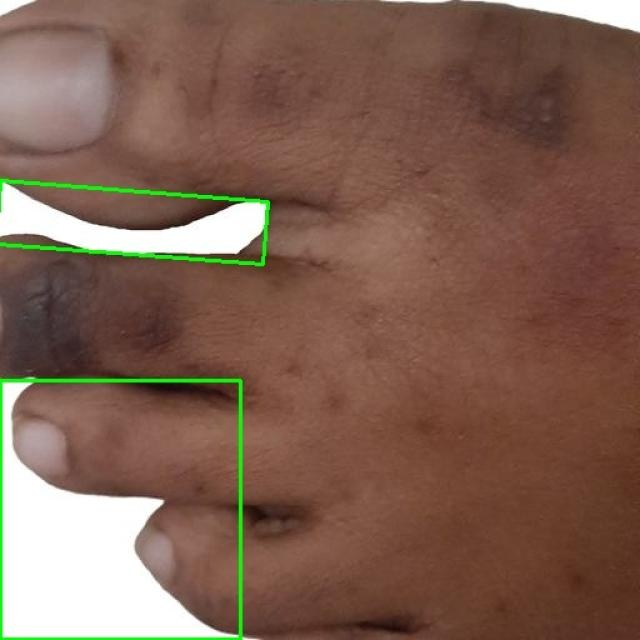Tinea Corporis: (0, 380, 240, 639), (0, 181, 268, 265)
